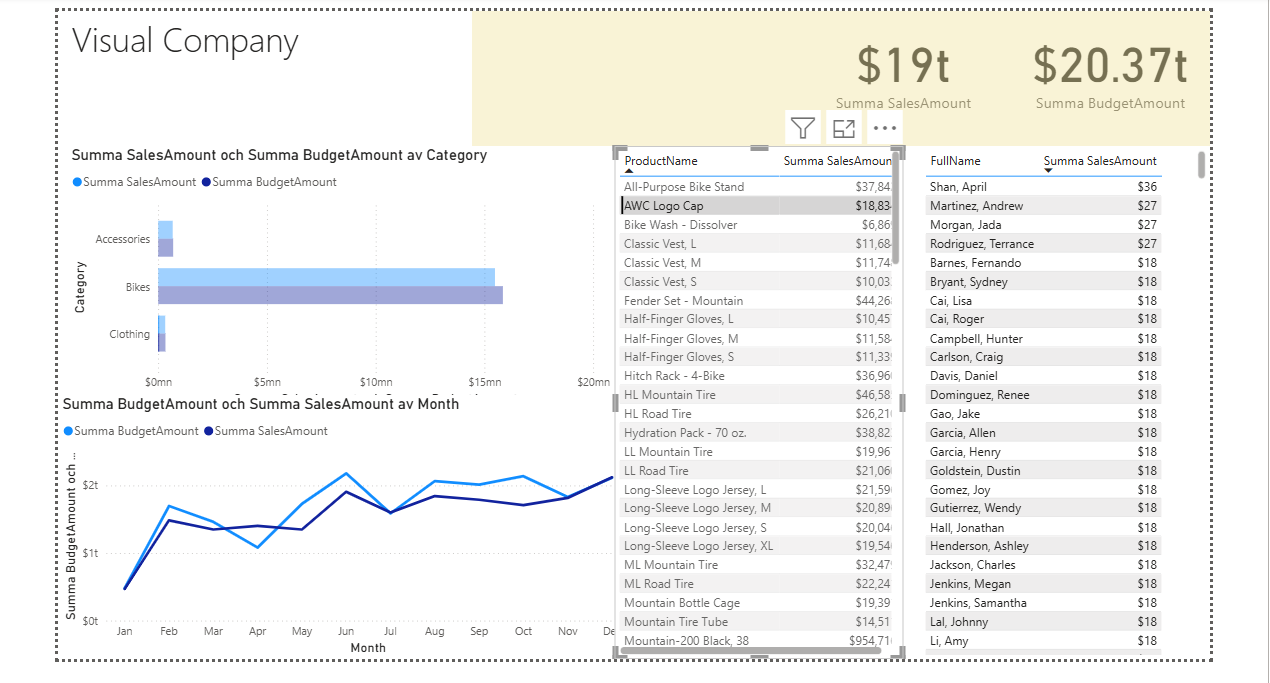

Layout of this report page (visuals, bound fields, positions):
{"tool":"powerbi","page":{"name":"Sida 1","canvas":[1280,720],"ordinal":0},"visuals":[{"type":"textbox","box":[10,0,295,102.5],"z":0},{"type":"card","fields":{"Values":["Sales.SalesAmount"]},"box":[820,0,238.3,126.7],"z":1},{"type":"card","fields":{"Values":["Budget.BudgetAmount"]},"box":[1058.3,0,221.7,126.7],"z":2},{"type":"shape","box":[460,0,820,150],"z":3},{"type":"clusteredBarChart","fields":{"Y":["Sales.SalesAmount","Budget.BudgetAmount"],"Category":["Product.Category","Product.SubCategory"]},"box":[10,150,608.3,293.3],"z":4},{"type":"lineChart","fields":{"Y":["Budget.BudgetAmount","Sales.SalesAmount"],"Category":["Calendar.Month"]},"box":[0,426.7,640,293.3],"z":6},{"type":"tableEx","fields":{"Values":["Product.ProductName","Sales.SalesAmount"]},"box":[618.3,150,321.7,570],"z":7},{"type":"tableEx","fields":{"Values":["Customer.FullName","Sales.SalesAmount"]},"box":[958.3,150,321.7,570],"z":8}]}

Visuals, with their boxes in screenshot pixels (x1, y1, x2, y2):
textbox: locate(59, 10, 325, 103)
card - Sales.SalesAmount: locate(791, 10, 1007, 125)
card - Budget.BudgetAmount: locate(1007, 10, 1207, 125)
shape: locate(466, 10, 1207, 146)
clusteredBarChart - Sales.SalesAmount x Budget.BudgetAmount: locate(59, 146, 609, 411)
lineChart - Budget.BudgetAmount x Sales.SalesAmount: locate(50, 396, 628, 661)
tableEx - Product.ProductName x Sales.SalesAmount: locate(609, 146, 900, 661)
tableEx - Customer.FullName x Sales.SalesAmount: locate(916, 146, 1207, 661)
